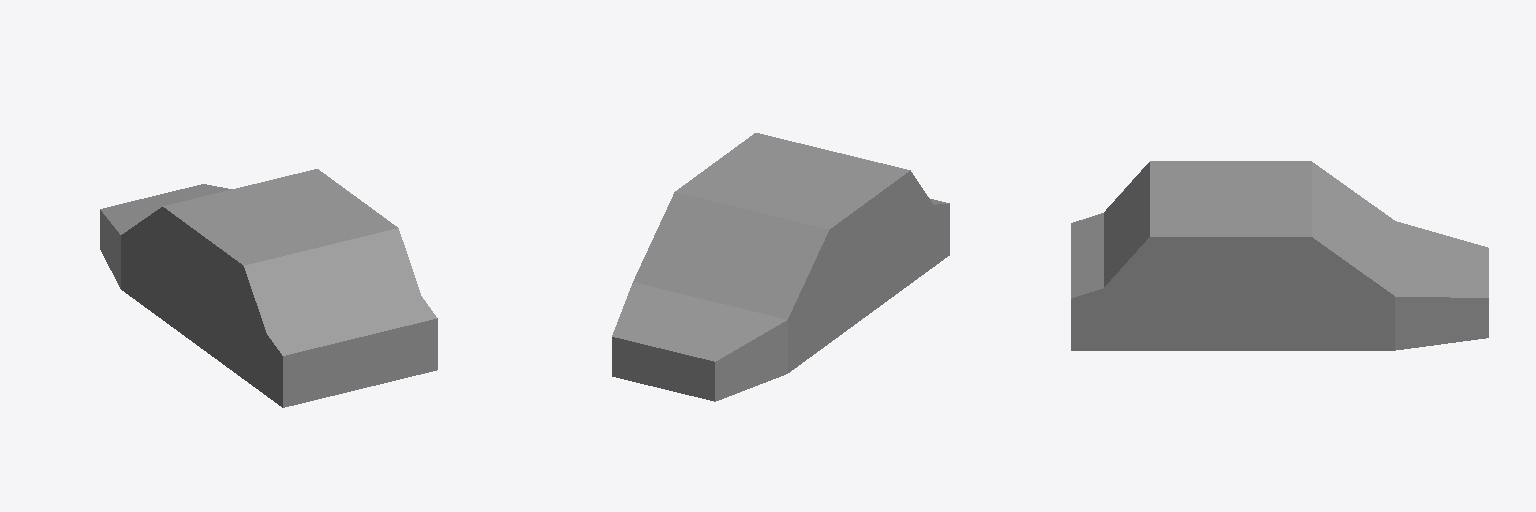
Rendered from minekart.obj.
The picture shows the model from 3 angles: view 1: azimuth 30°, elevation 25°; view 2: azimuth 150°, elevation 25°; view 3: azimuth 270°, elevation 25°; orthographic projection.
Parts seen in each view (by area): view 1: Cube; view 2: Cube; view 3: Cube.
Boxes of the visible parts, <box> form: Cube: <box>100,169,437,407</box>; Cube: <box>612,133,949,401</box>; Cube: <box>1071,161,1488,350</box>.
Size of the model in its own units: 0.6461 by 0.4532 by 1.51.